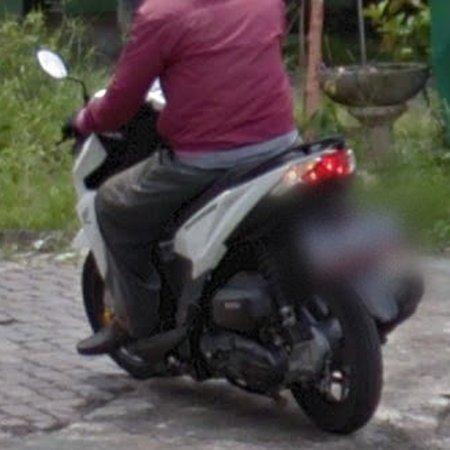motorcycles: (112, 139, 425, 433), (73, 103, 164, 332)
